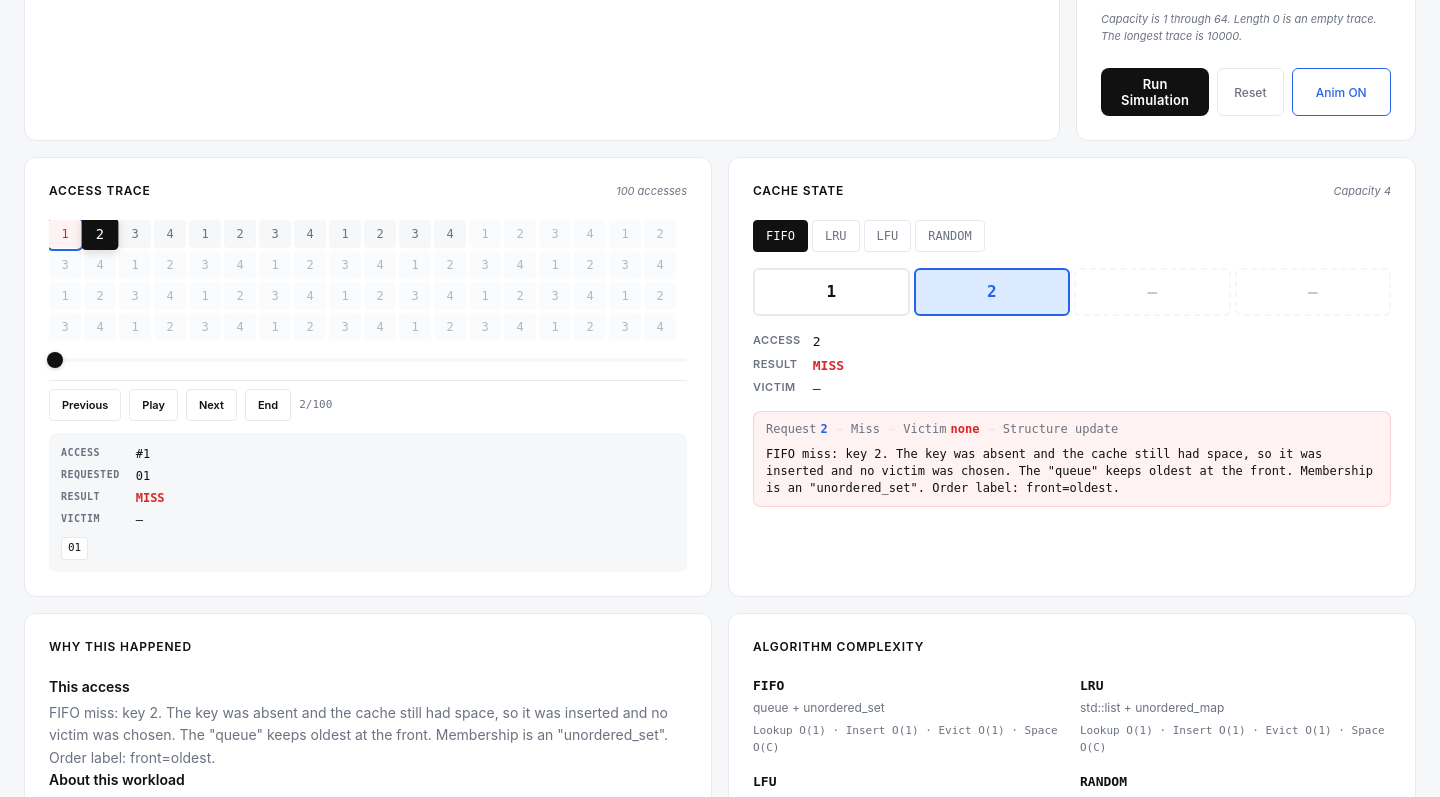
Test: steps with Previous and Next and the playback keys
Earlier steps of the test are not shown.
Later steps or results of the test are not shown.
(page scrolled)
Check: the text with class "trace-counter" reads "2/100", box x1=299 y1=398 x2=332 y2=411
Step 1. Press ArrowLeft
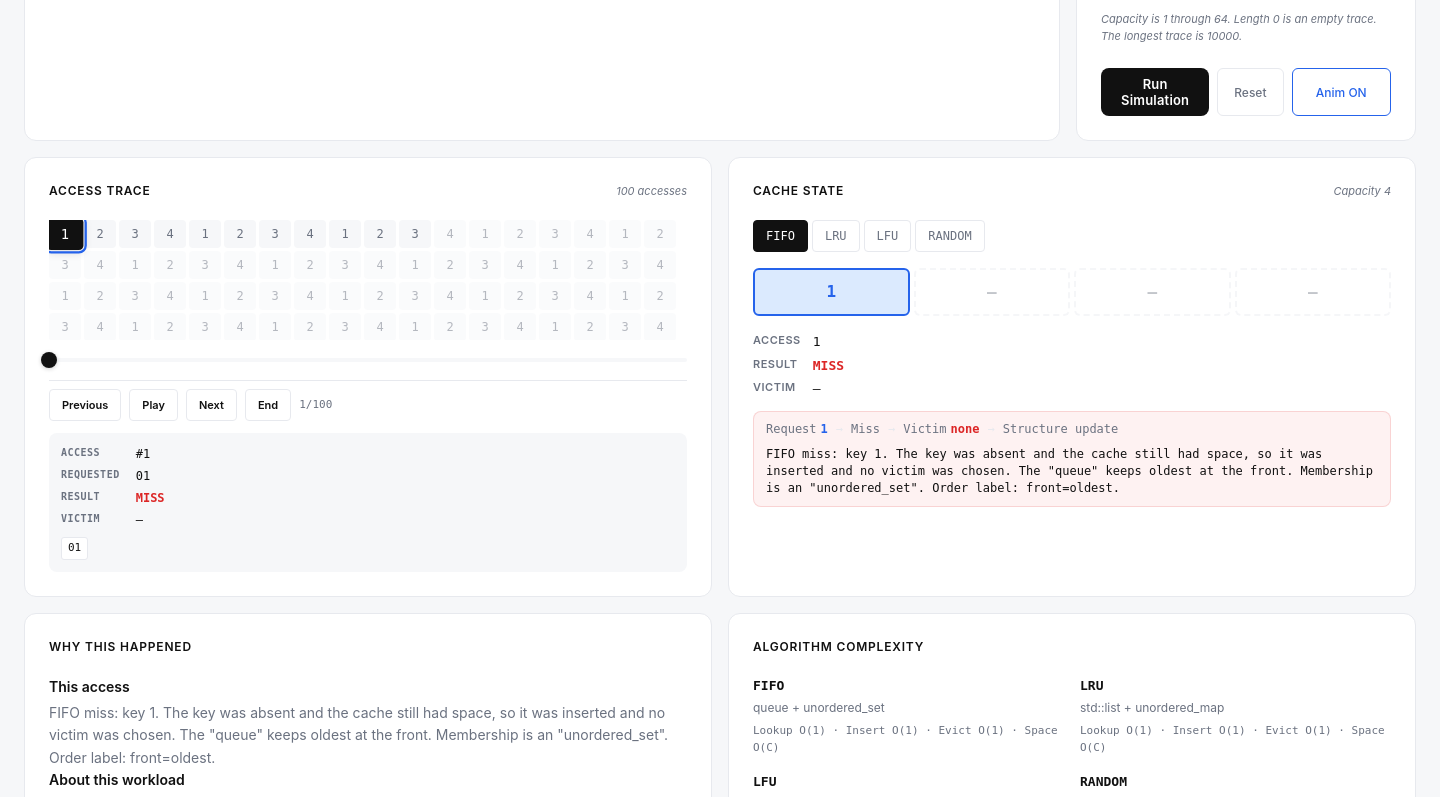
Check: the text with class "trace-counter" reads "1/100", box x1=299 y1=398 x2=332 y2=411
Step 2. Press ArrowLeft
Check: the text with class "trace-counter" reads "1/100", box x1=299 y1=398 x2=332 y2=411
Step 3. Press ArrowRight
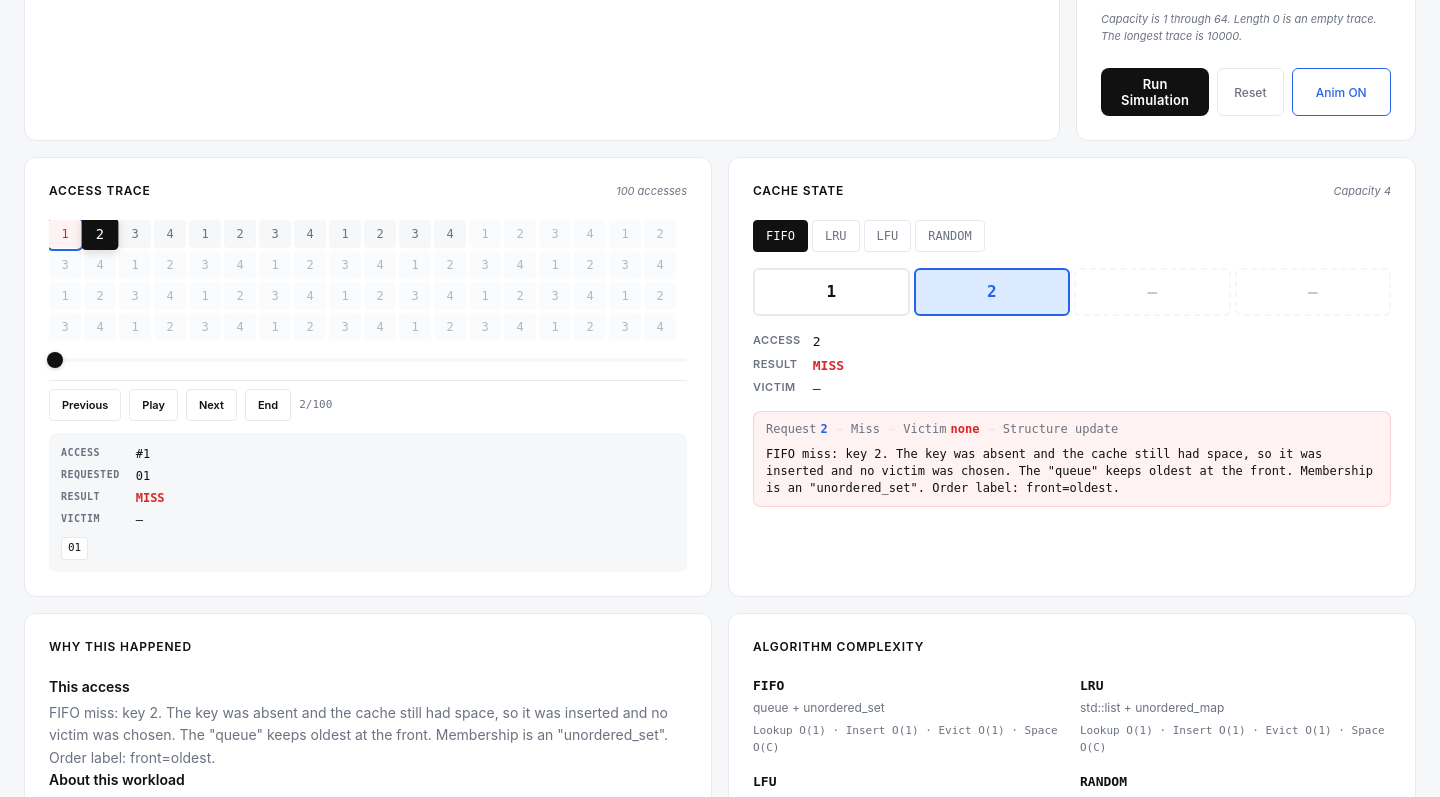
Check: the text with class "trace-counter" reads "2/100", box x1=299 y1=398 x2=332 y2=411
Step 4. Press Space
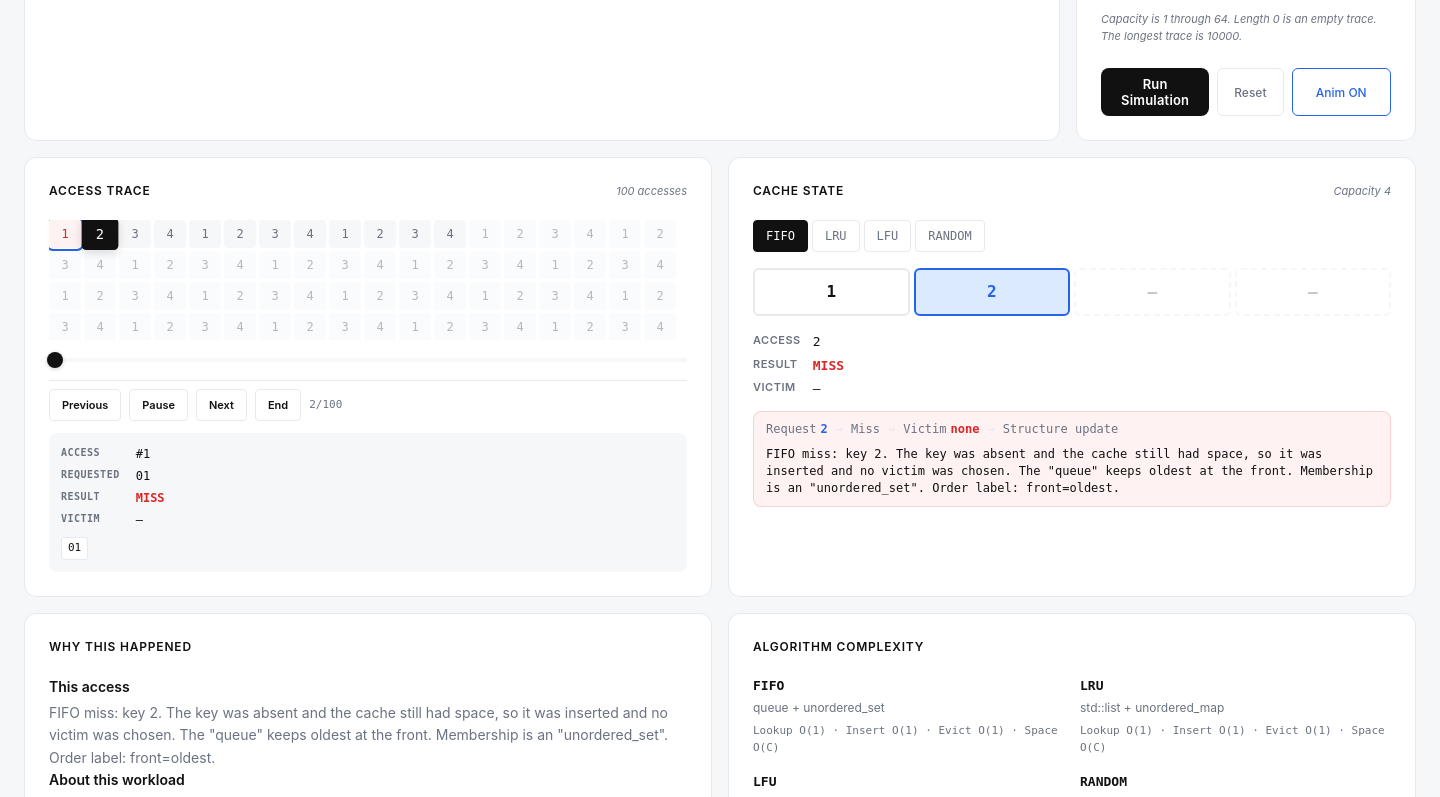
Check: the button with aria-label "Pause playback" is shown, box x1=129 y1=389 x2=188 y2=421
Step 5. Press Space
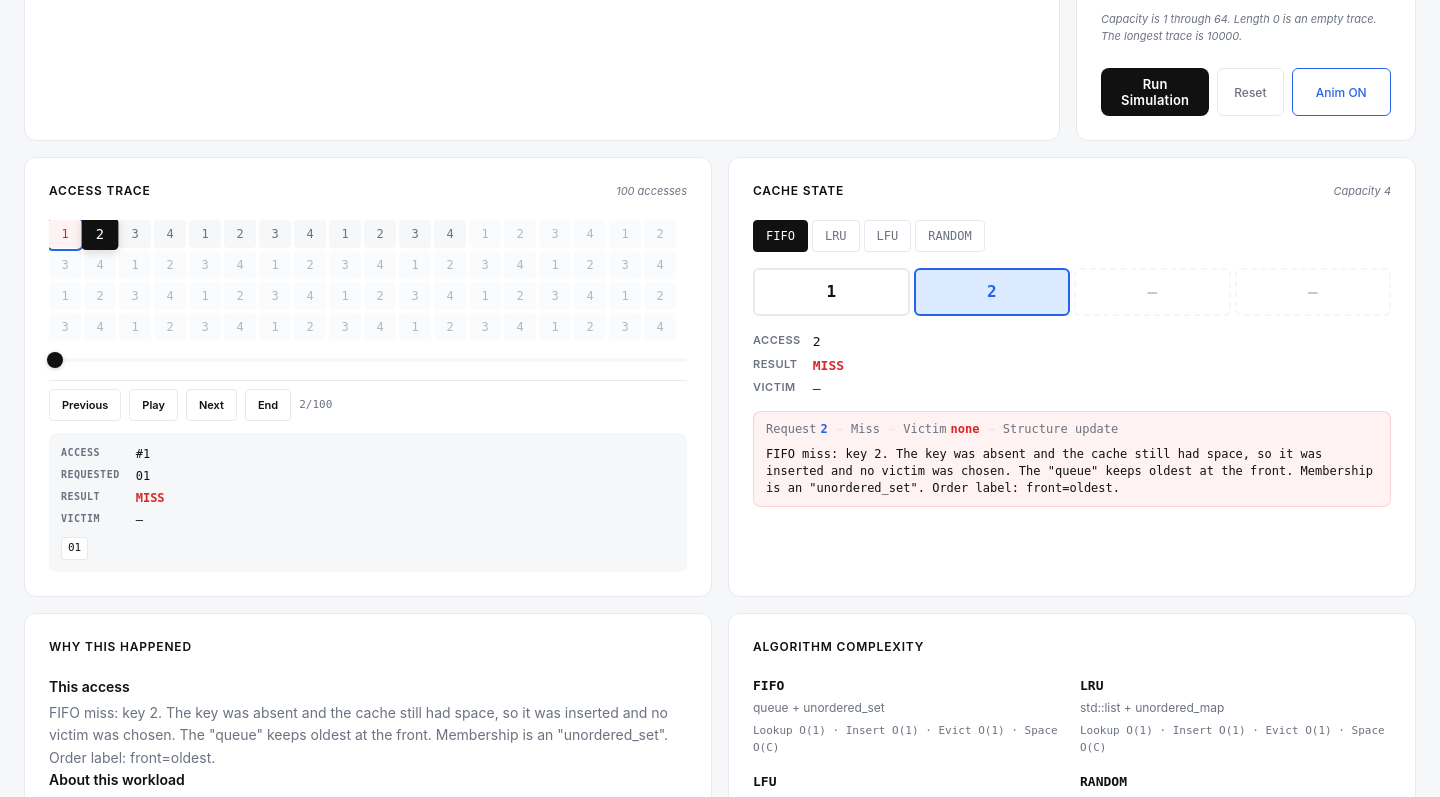
Check: the button with aria-label "Play trace" is shown, box x1=129 y1=389 x2=178 y2=421
Step 6. Click the button with aria-label "Skip to end of trace" → (268, 405), box x1=245 y1=389 x2=291 y2=421
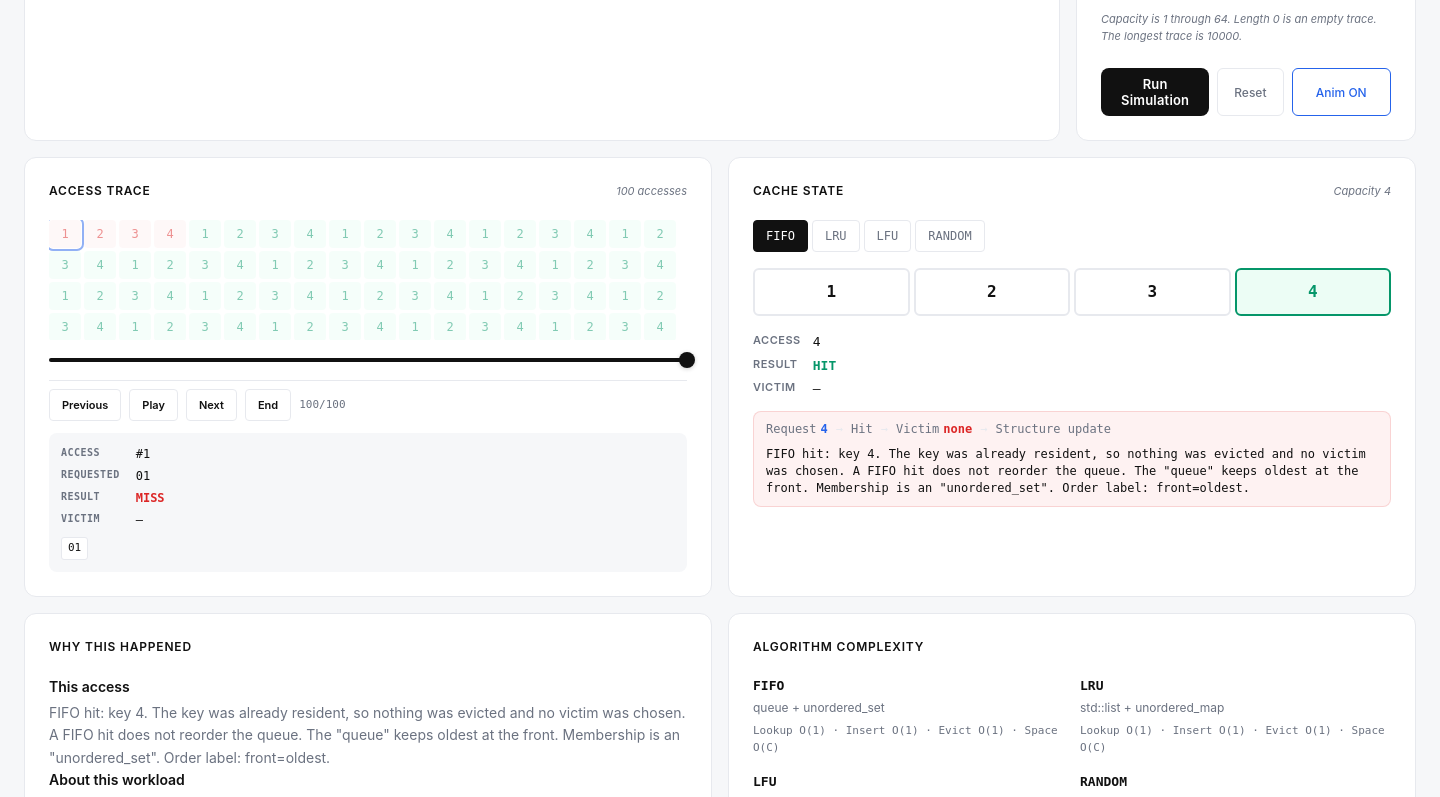
Step 7. Press r
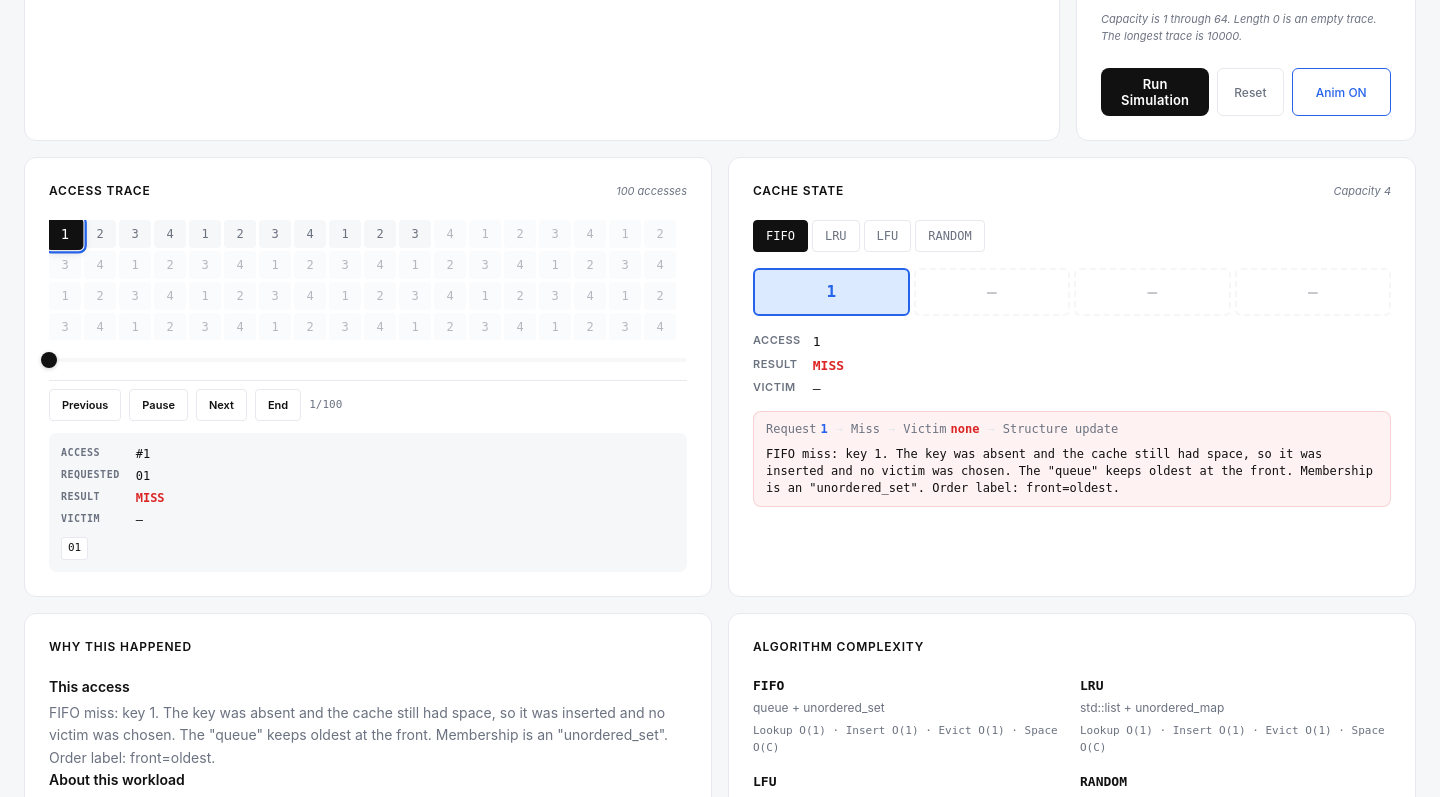
Check: the text with class "trace-counter" no longer shows "100/100"
